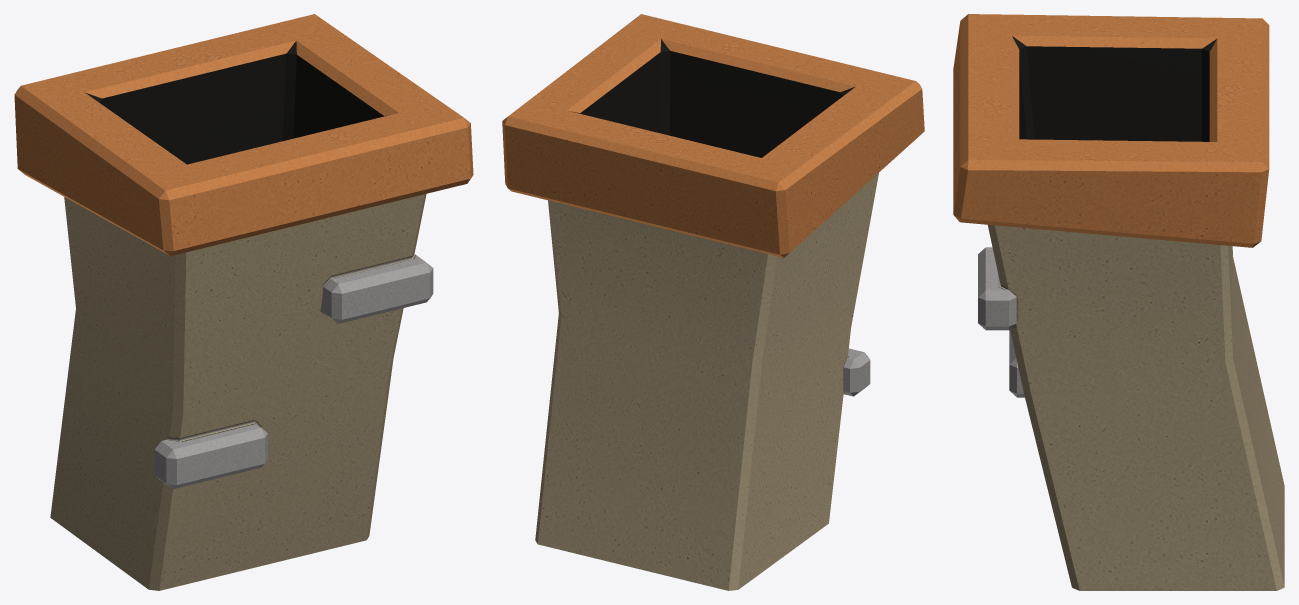
The model's file is fireplace_LOD0.fbx.
3 views of the same model, side by side, from view 1: azimuth 30°, elevation 25°; view 2: azimuth 150°, elevation 25°; view 3: azimuth 270°, elevation 25° (orthographic). The views are drawn at different scales.
Visible parts, largest first — view 1: fireplace_LOD0; view 2: fireplace_LOD0; view 3: fireplace_LOD0.
Part boxes in pixels (x1=…): fireplace_LOD0: x1=14, y1=14, x2=473, y2=590; fireplace_LOD0: x1=502, y1=14, x2=924, y2=590; fireplace_LOD0: x1=953, y1=14, x2=1284, y2=590.
Bounding box in the file's own units: 94.21 × 130 × 86.55.
